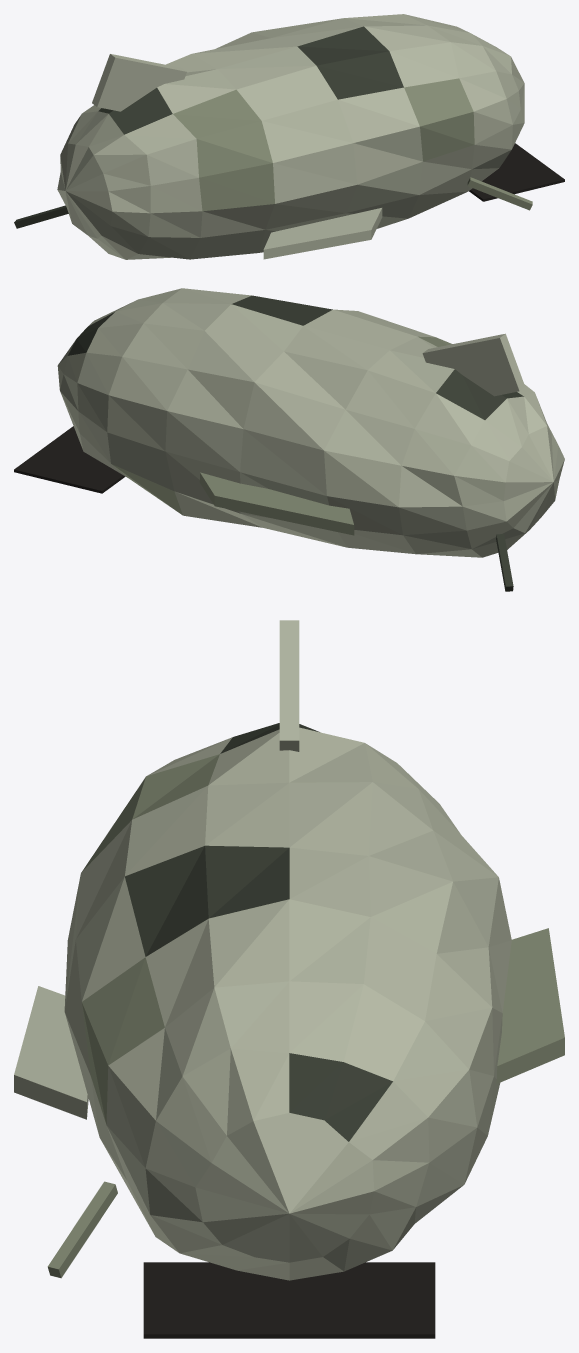
The model's file is shuttle_crashed_mechanitor.obj.
3 views of the same model, one above another, from view 1: azimuth 30°, elevation 25°; view 2: azimuth 150°, elevation 25°; view 3: azimuth 270°, elevation 25° (orthographic). The views are drawn at different scales.
Visible parts, largest first — view 1: shuttle_crashed_mechanitor; view 2: shuttle_crashed_mechanitor; view 3: shuttle_crashed_mechanitor.
Part boxes in pixels (x1=…): shuttle_crashed_mechanitor: x1=14, y1=14, x2=564, y2=259; shuttle_crashed_mechanitor: x1=14, y1=288, x2=564, y2=591; shuttle_crashed_mechanitor: x1=14, y1=620, x2=564, y2=1338.
Size of the model in its own units: 5.99 by 2.42 by 3.4.
